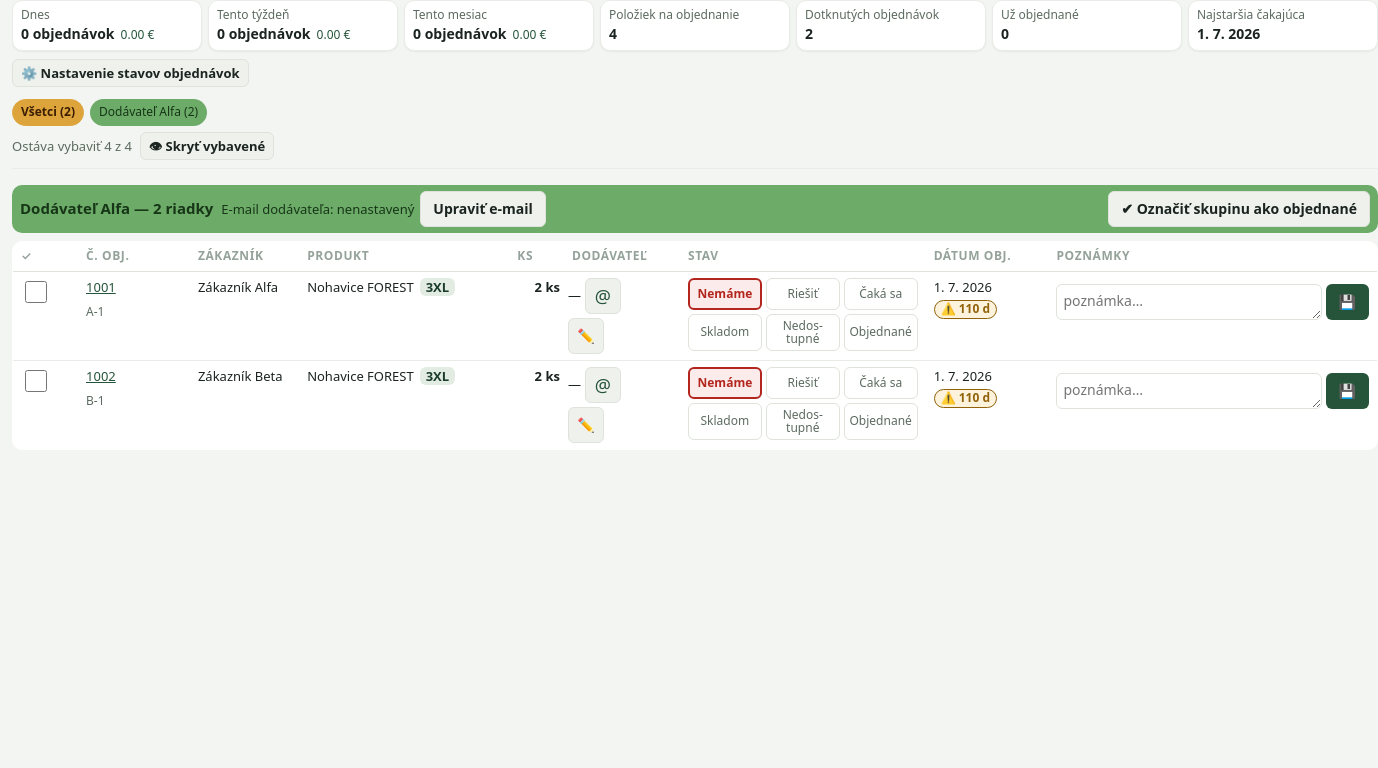
Test: úspešný opakovaný zápis (riadok Alfa) zmaže LEN jeho položku — druhá (Beta) ostáva viditeľná
The image size is (1378, 768).
Click the radio button labelled "Skladom" in the row of "A-1" at (725, 332), box [688,314,762,351]
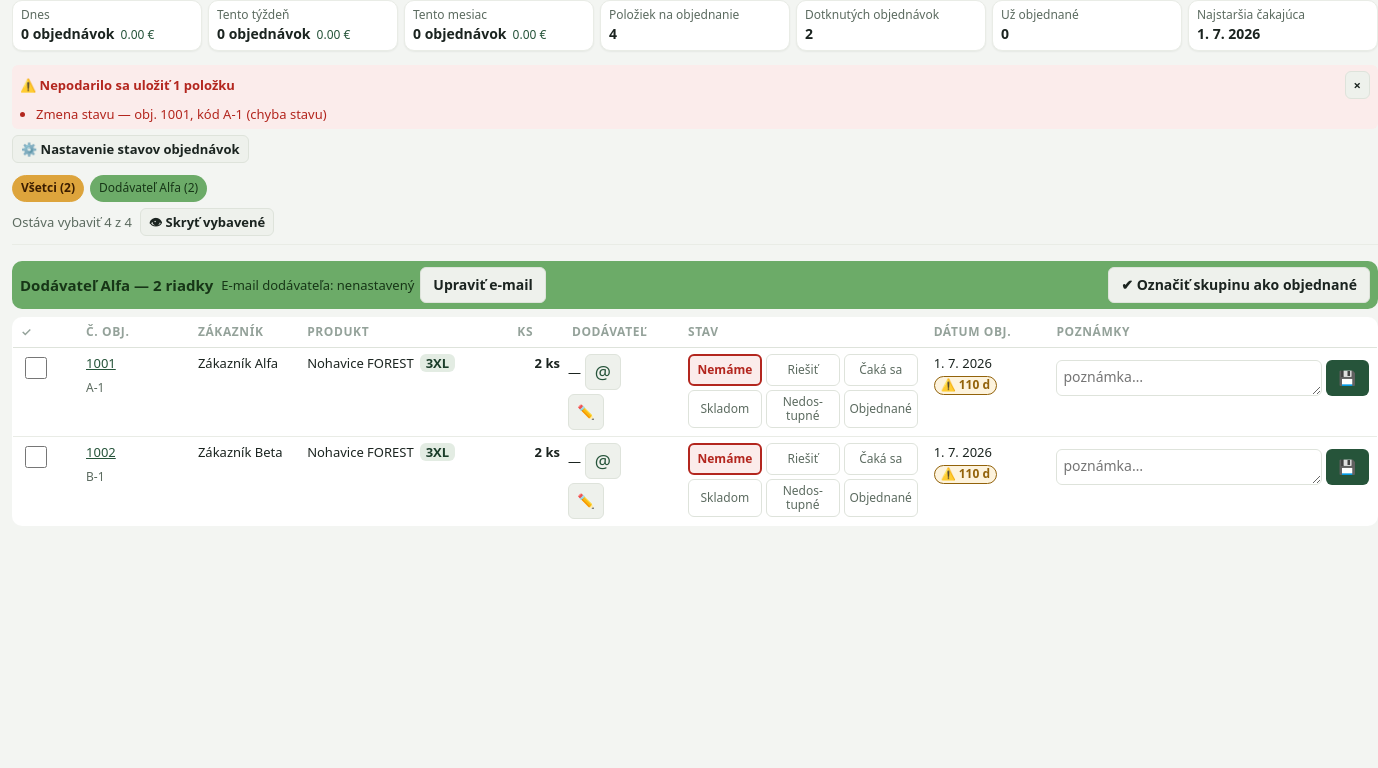
Expected: the message with test id "order-write-failures" shows "Nepodarilo sa uložiť 1 položku", [20,76,235,94]
Click the checkbox named "Označiť riadok objednávky 1002 / B-1 ako objednané u dodávat" at (36, 457), box [25,446,47,468]
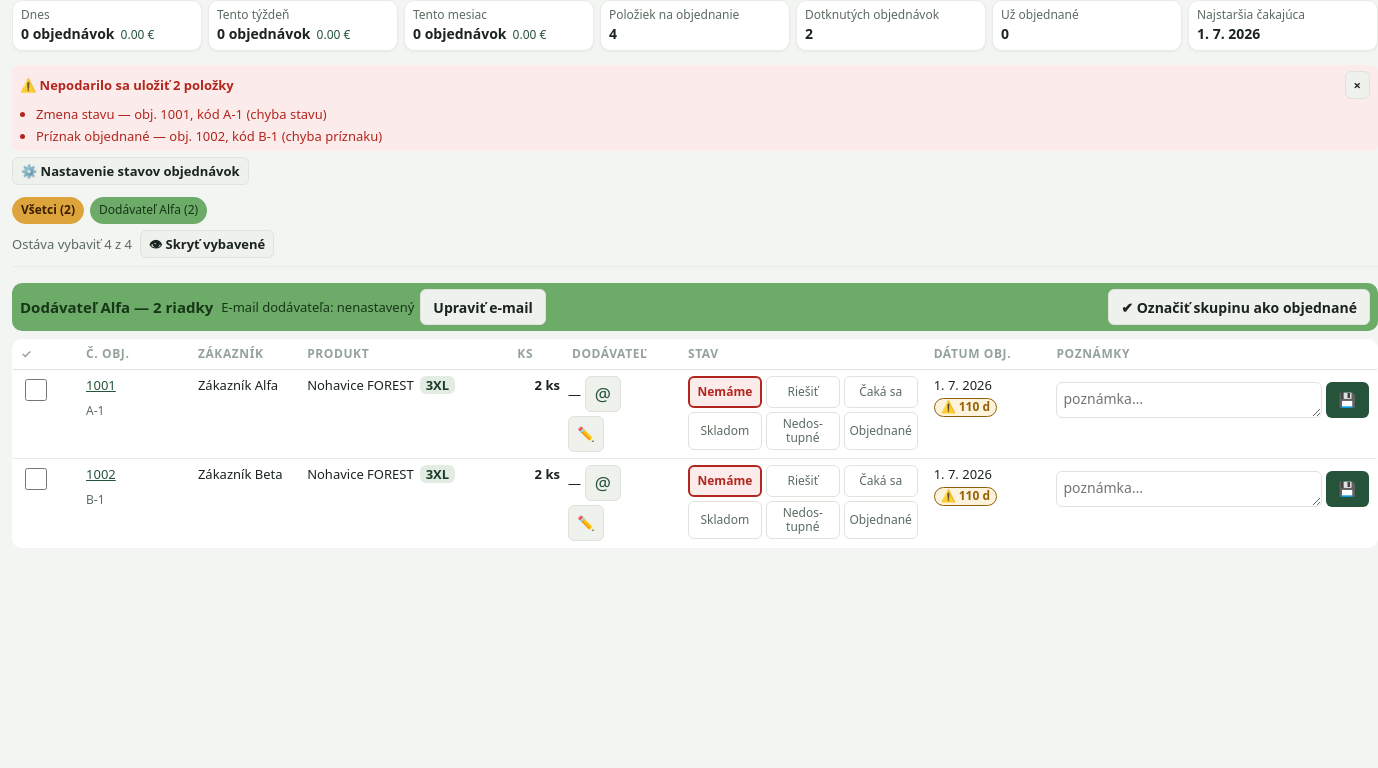
Expected: the message with test id "order-write-failures" shows "Nepodarilo sa uložiť 2 položky", [20,76,234,94]
Click the 1st radio button labelled "Skladom" at (725, 431), box [688,412,762,450]
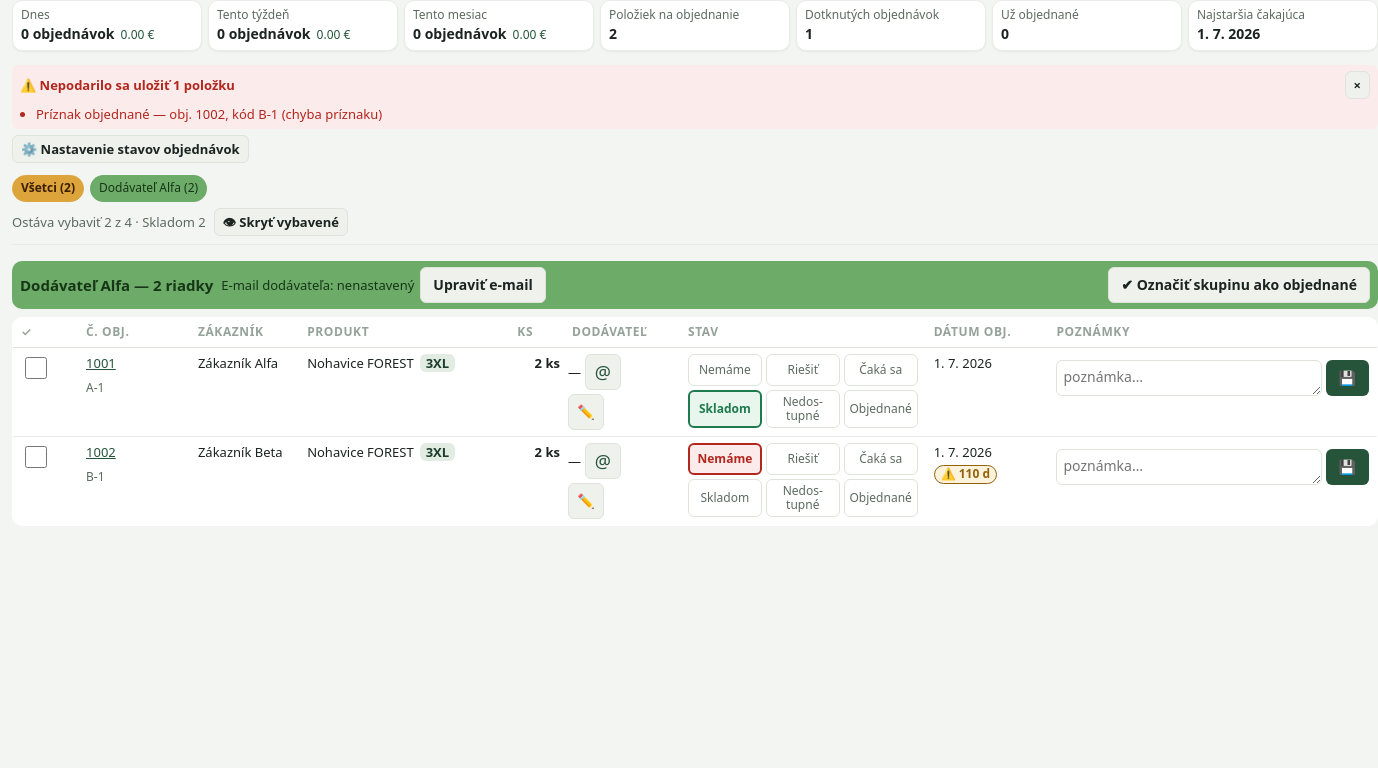
Expected: the message with test id "order-write-failures" shows "Nepodarilo sa uložiť 1 položku", [20,76,235,94]
